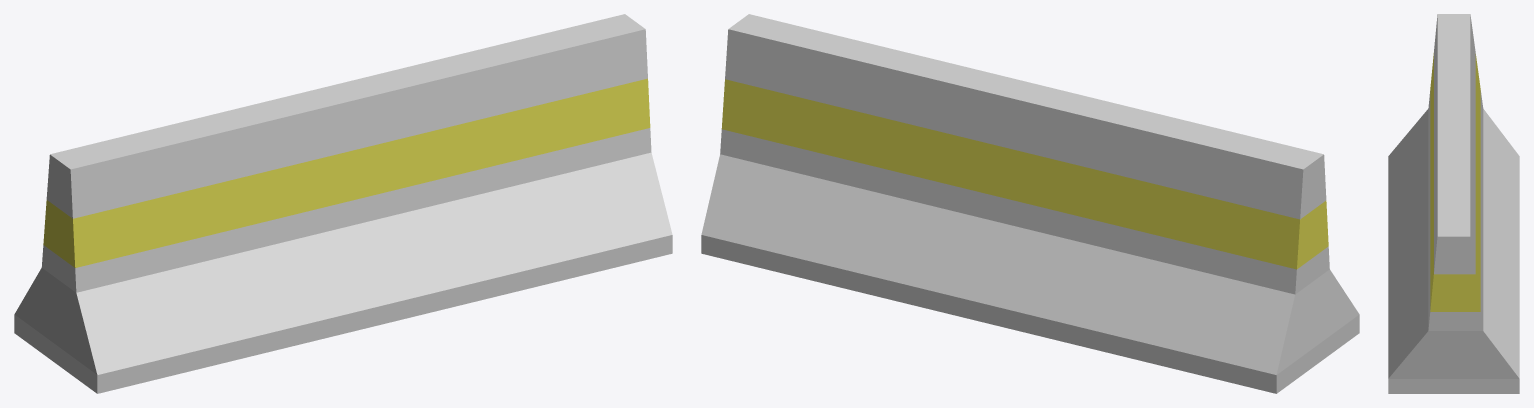
The model's file is GamesE_E03_Barrera.fbx.
3 renders of one model, left to right at view 1: azimuth 30°, elevation 25°; view 2: azimuth 150°, elevation 25°; view 3: azimuth 270°, elevation 25°, orthographic. The views are drawn at different scales.
Parts seen in each view (by area): view 1: Barrera; view 2: Barrera; view 3: Barrera.
Boxes of the visible parts, box(x1,y1,x2,y2) form: Barrera: box(14, 14, 672, 393); Barrera: box(701, 14, 1359, 393); Barrera: box(1388, 14, 1519, 393).
Bounding box in the file's own units: 2.46 × 0.6096 × 0.8128.
